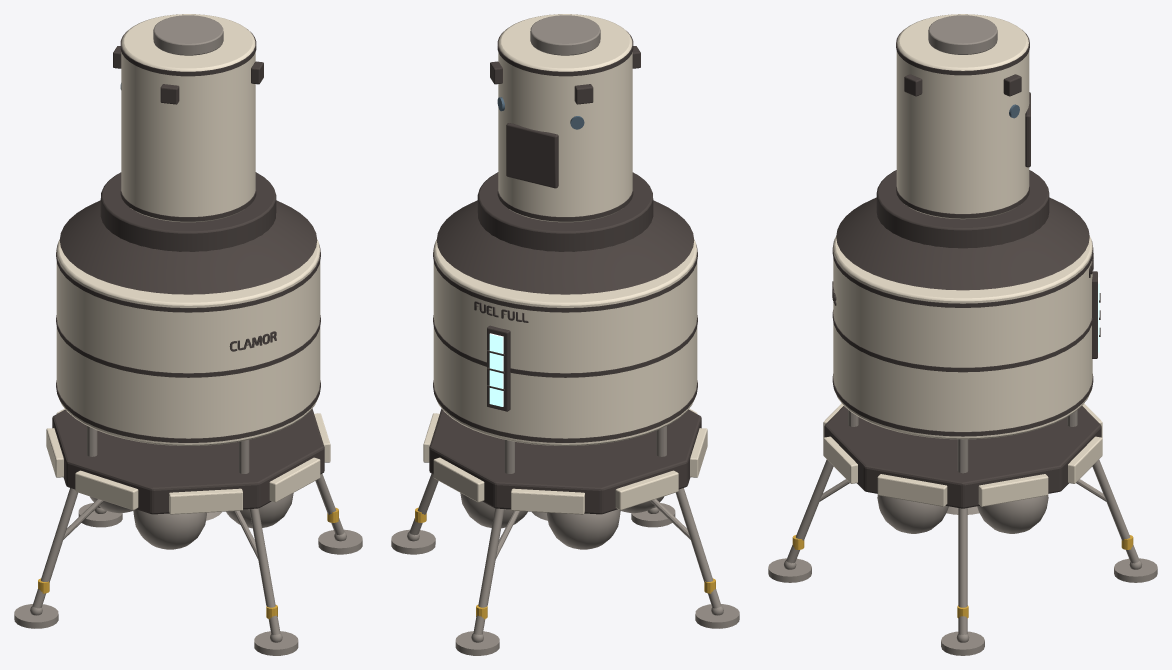
The model's file is building_mav.glb.
3 renders of one model, left to right at view 1: azimuth 30°, elevation 25°; view 2: azimuth 150°, elevation 25°; view 3: azimuth 270°, elevation 25°, orthographic.
Visible parts, largest first — view 1: ascent, mav-col; view 2: ascent, mav-col; view 3: ascent, mav-col.
Boxes of the visible parts, left/top/right/bottom form: ascent: left=56, top=14, right=320, bottom=445; mav-col: left=14, top=408, right=362, bottom=655; ascent: left=433, top=14, right=697, bottom=445; mav-col: left=391, top=408, right=739, bottom=655; ascent: left=832, top=14, right=1100, bottom=439; mav-col: left=768, top=403, right=1157, bottom=655.
Size of the model in its own units: 6.76 by 10.42 by 6.76.
